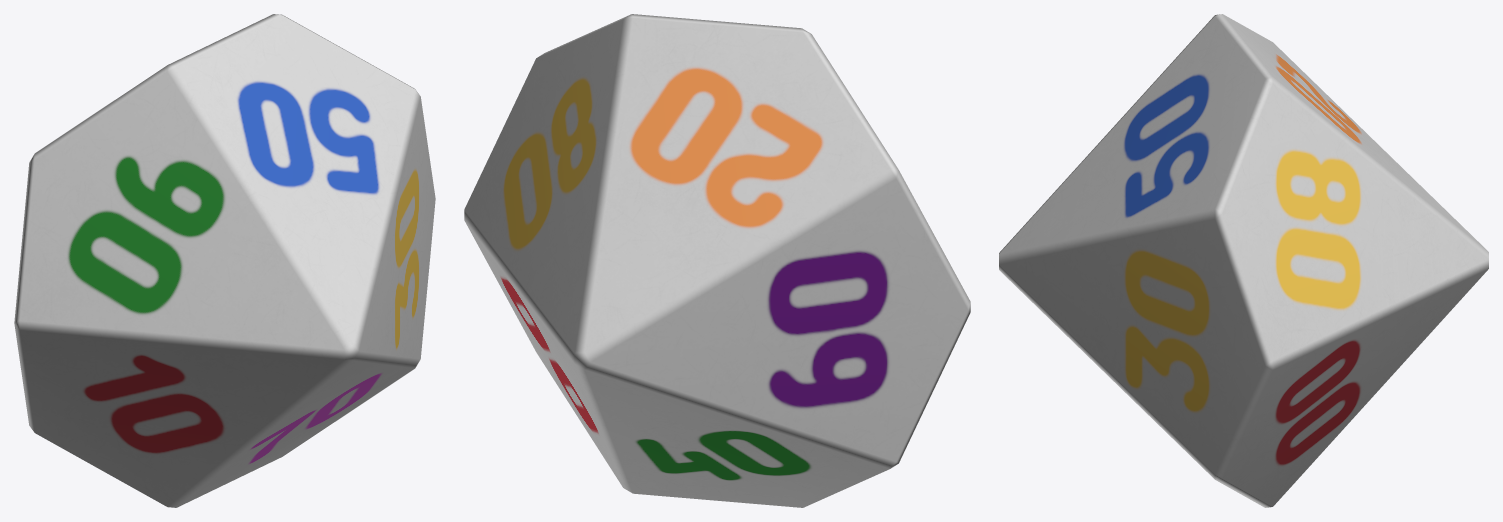
Rendered from d100_rainbow.glb.
The picture shows the model from 3 angles, left to right: view 1: azimuth 30°, elevation 25°; view 2: azimuth 150°, elevation 25°; view 3: azimuth 270°, elevation 25°; orthographic projection. The views are drawn at different scales.
Visible parts, largest first — view 1: Mesh_0; view 2: Mesh_0; view 3: Mesh_0.
Boxes of the visible parts, box(x1,y1,x2,y2) form: Mesh_0: box(14, 14, 435, 507); Mesh_0: box(464, 14, 970, 507); Mesh_0: box(999, 14, 1488, 507).
Size of the model in its own units: 175 by 166 by 172.
1 material, 1 textured.
